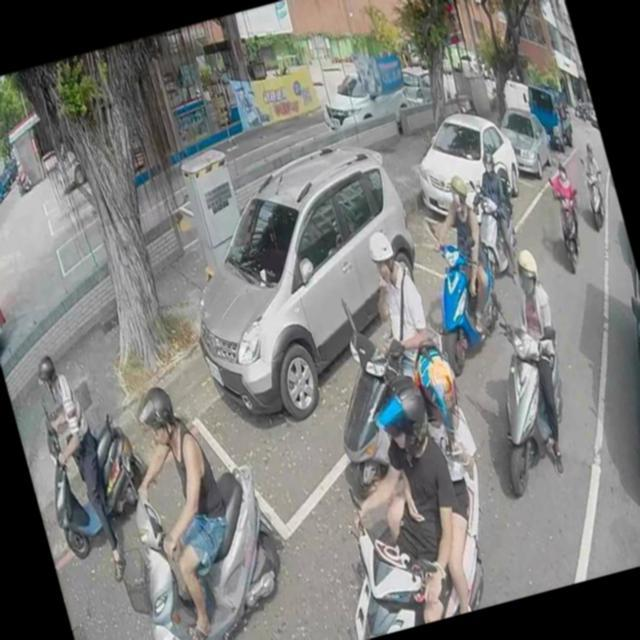person: (313, 364, 487, 635), (347, 340, 512, 622), (106, 369, 258, 640), (23, 338, 135, 586), (488, 238, 591, 478), (418, 165, 502, 338), (358, 224, 444, 385), (468, 146, 532, 278), (542, 156, 590, 254), (575, 139, 610, 216), (12, 158, 30, 188)
